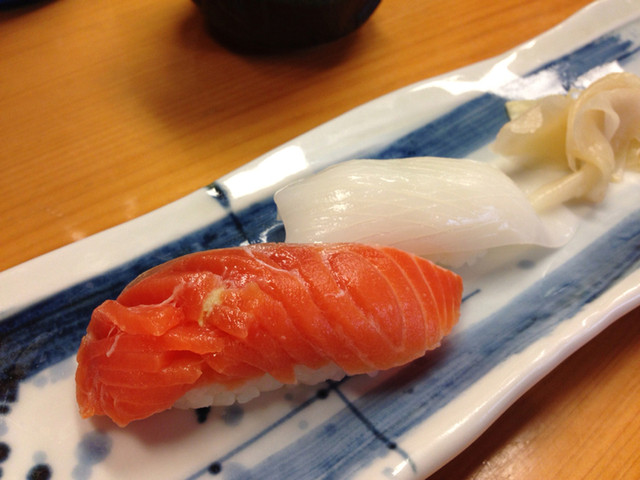salmon: (74, 248, 464, 429)
